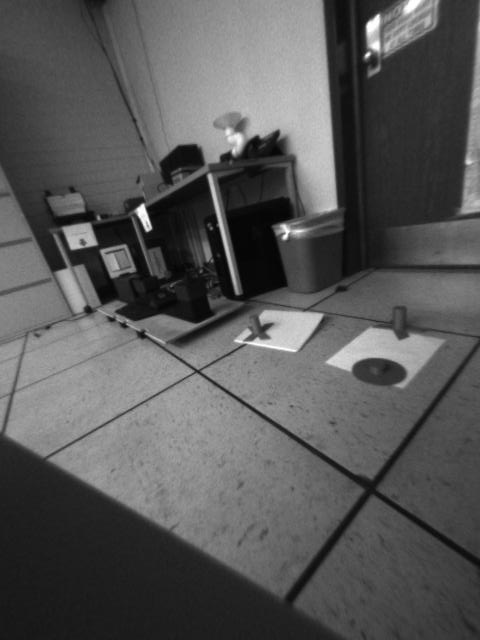X: (371, 307, 425, 338), (244, 313, 272, 343)
